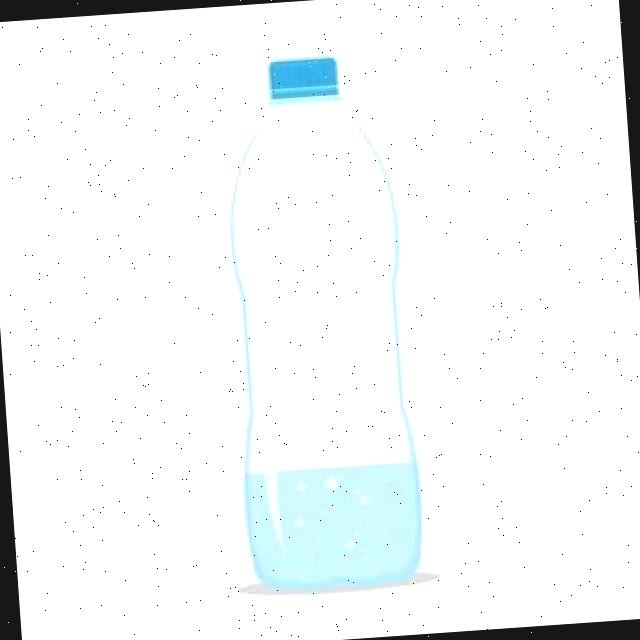bottle: (205, 39, 442, 606)
cap: (258, 50, 344, 107)
